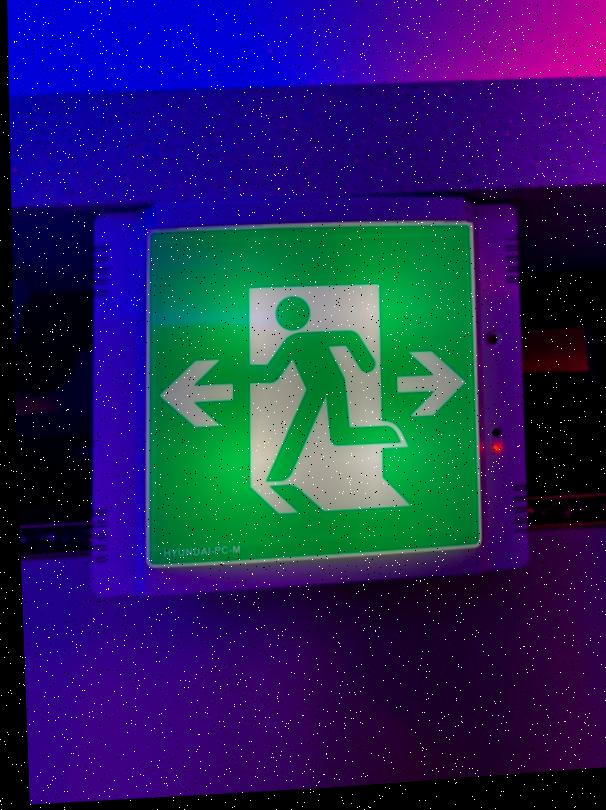emergency_exit: (144, 218, 484, 571)
